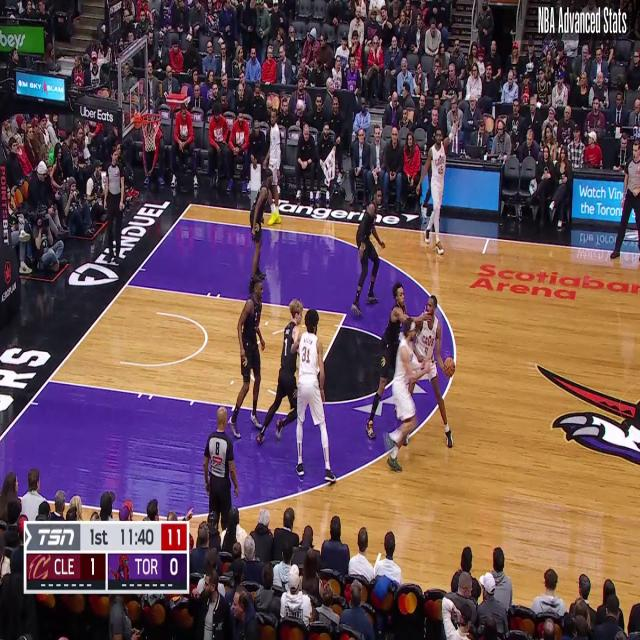judge: (204, 410, 239, 538), (609, 139, 639, 261), (103, 142, 127, 260)
player: (370, 281, 424, 438), (296, 306, 336, 484), (408, 296, 453, 449), (257, 301, 304, 445), (230, 263, 267, 434), (349, 184, 387, 321), (244, 171, 280, 295), (421, 126, 450, 253), (264, 107, 284, 207)
